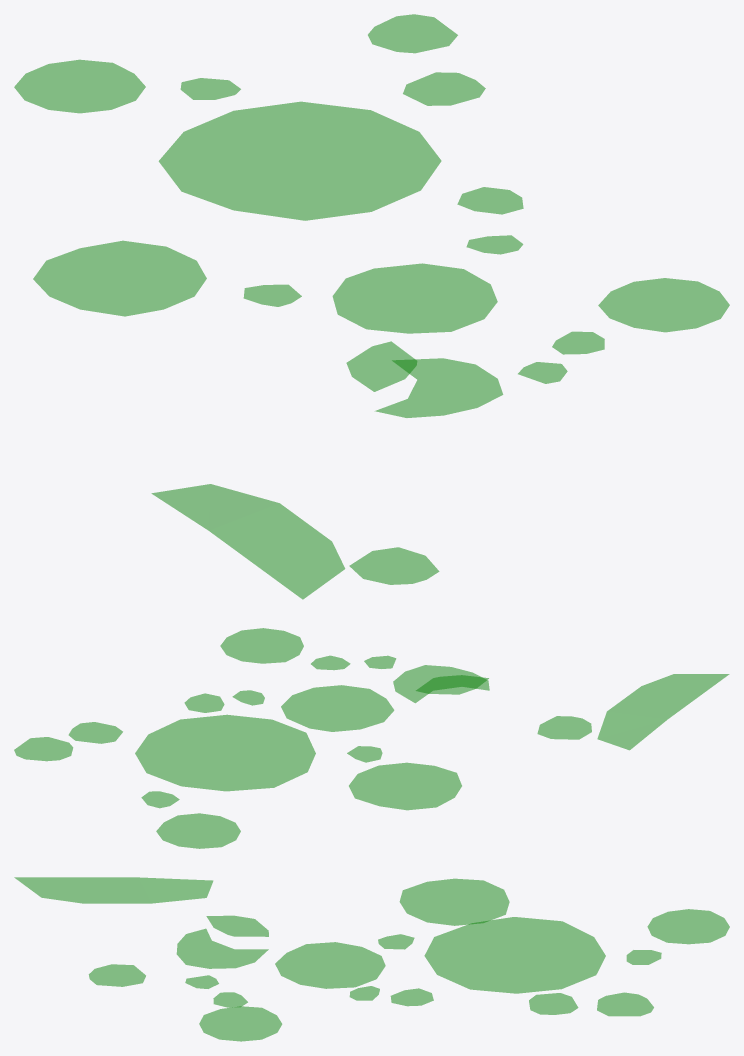
The model's file is dash_siro.obj.
3 views of the same model, one above another, from view 1: azimuth 30°, elevation 25°; view 2: azimuth 150°, elevation 25°; view 3: azimuth 270°, elevation 25° (orthographic). The views are drawn at different scales.
Bounding box in the file's own units: 67.03 × 16 × 104.
